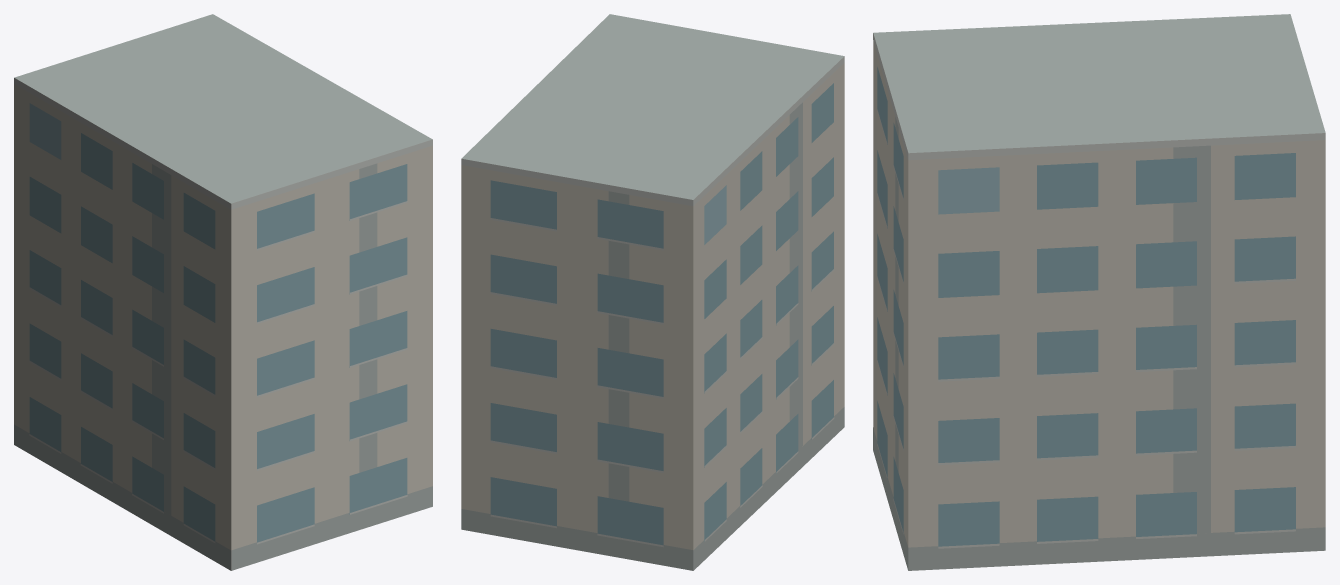
Rendered from survey-upis-32854414.glb.
The picture shows the model from 3 angles, left to right: view 1: azimuth 30°, elevation 25°; view 2: azimuth 150°, elevation 25°; view 3: azimuth 270°, elevation 25°; orthographic projection. The views are drawn at different scales.
Parts seen in each view (by area): view 1: survey-upis-32854414.tmp; view 2: survey-upis-32854414.tmp; view 3: survey-upis-32854414.tmp.
Part boxes in pixels (bbox=[...]): survey-upis-32854414.tmp: bbox=[14, 14, 432, 570]; survey-upis-32854414.tmp: bbox=[461, 14, 844, 570]; survey-upis-32854414.tmp: bbox=[873, 14, 1325, 570].
Size of the model in its own units: 10.3 by 14.4 by 14.15.
